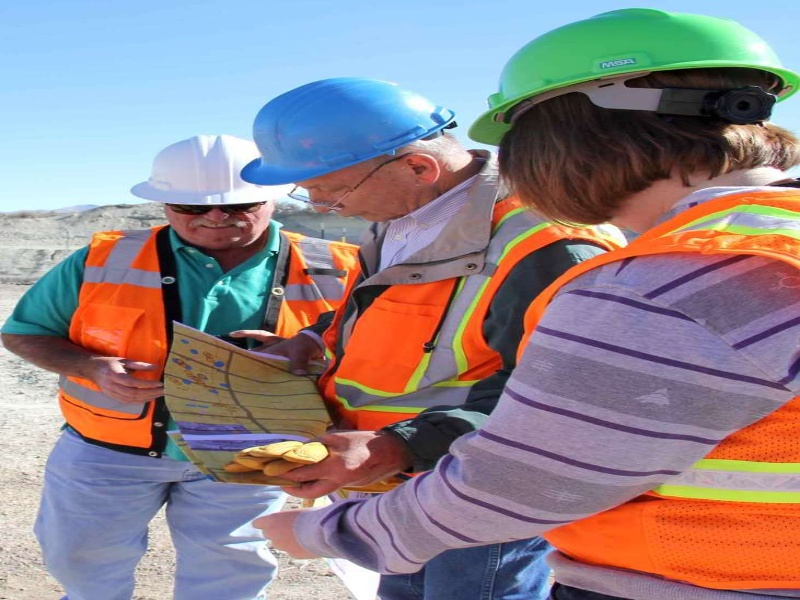helmet: (472, 8, 800, 139), (240, 75, 456, 186), (132, 134, 294, 209)
jacket: (626, 193, 800, 586), (345, 199, 557, 435), (68, 230, 176, 457), (279, 232, 355, 356)
